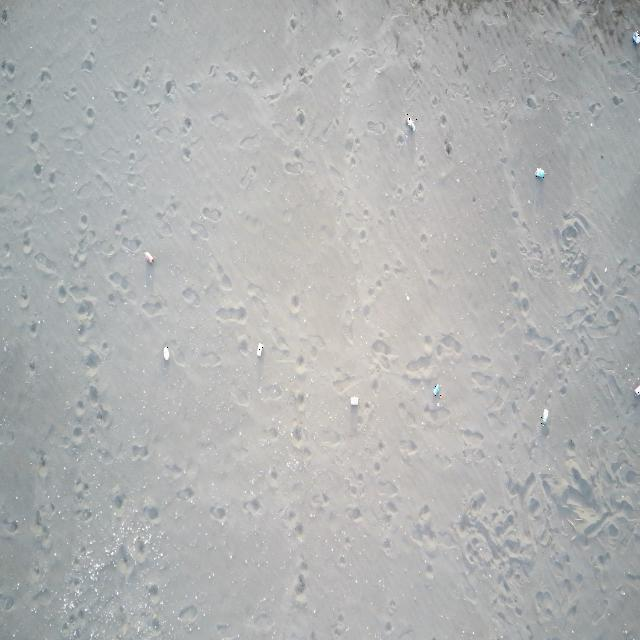Garbage: (406, 114, 415, 131), (144, 251, 154, 263), (540, 408, 547, 424), (535, 167, 544, 179), (632, 31, 639, 44), (256, 343, 263, 356), (432, 384, 440, 395), (350, 395, 357, 406), (633, 384, 639, 395), (163, 346, 167, 360)
